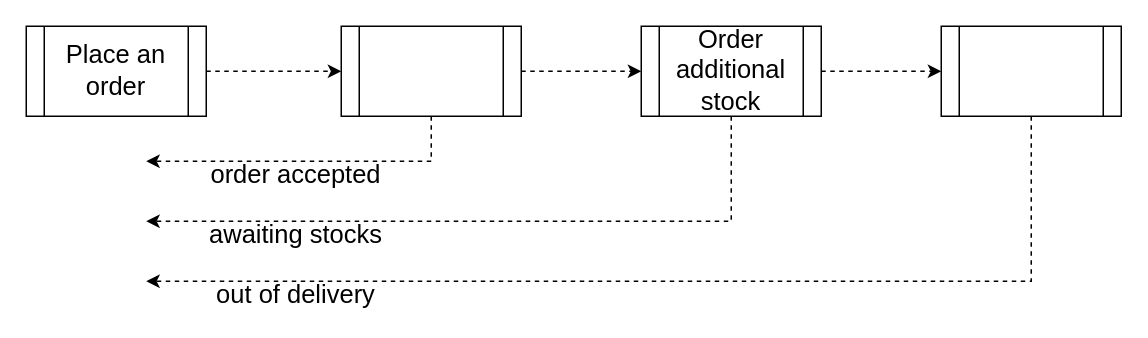
This 1148x338 diagram has some shape labels left out. Here are the shapes that lost their labels. From the top down, the box of each, then its label:
(340, 25, 521, 116): Take payment
(940, 25, 1121, 116): Ship to customer
